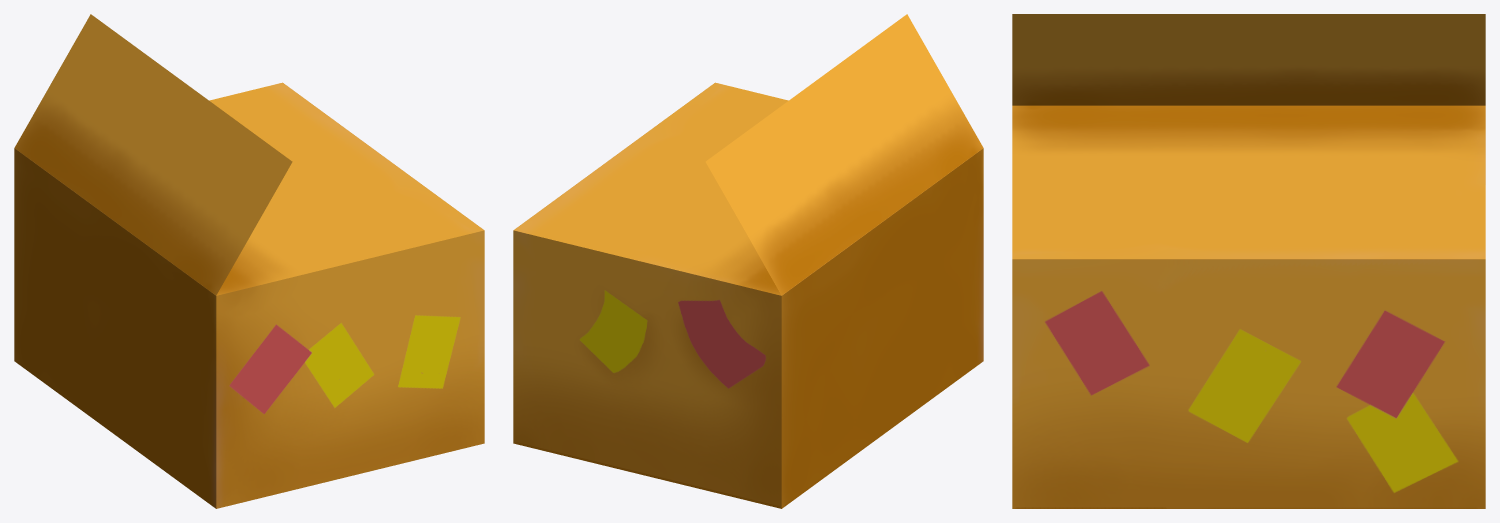
3 renders of one model, left to right at view 1: azimuth 30°, elevation 25°; view 2: azimuth 150°, elevation 25°; view 3: azimuth 270°, elevation 25°, orthographic. The views are drawn at different scales.
Visible parts, largest first — view 1: Box_004; view 2: Box_004; view 3: Box_004.
Boxes of the visible parts, x1,y1,x2,y2 form: Box_004: (14,14,484,508); Box_004: (513,14,983,508); Box_004: (1012,14,1485,508).
Size of the model in its own units: 68.88 by 80.56 by 89.72.
Materials: 1 (1 with a texture image).
